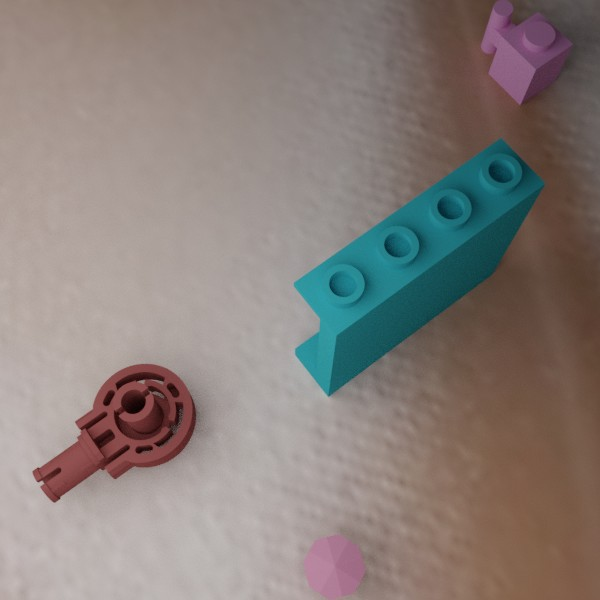lego: (293, 137, 545, 397), (32, 363, 196, 502), (480, 0, 573, 105), (303, 534, 365, 600)
